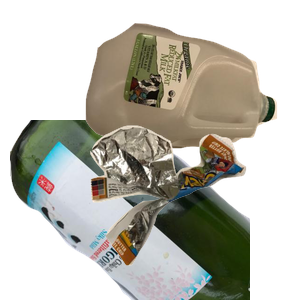glass: (10, 120, 250, 300)
metal: (105, 63, 300, 192)
plastic: (83, 21, 300, 162)
trash: (88, 123, 300, 300)
